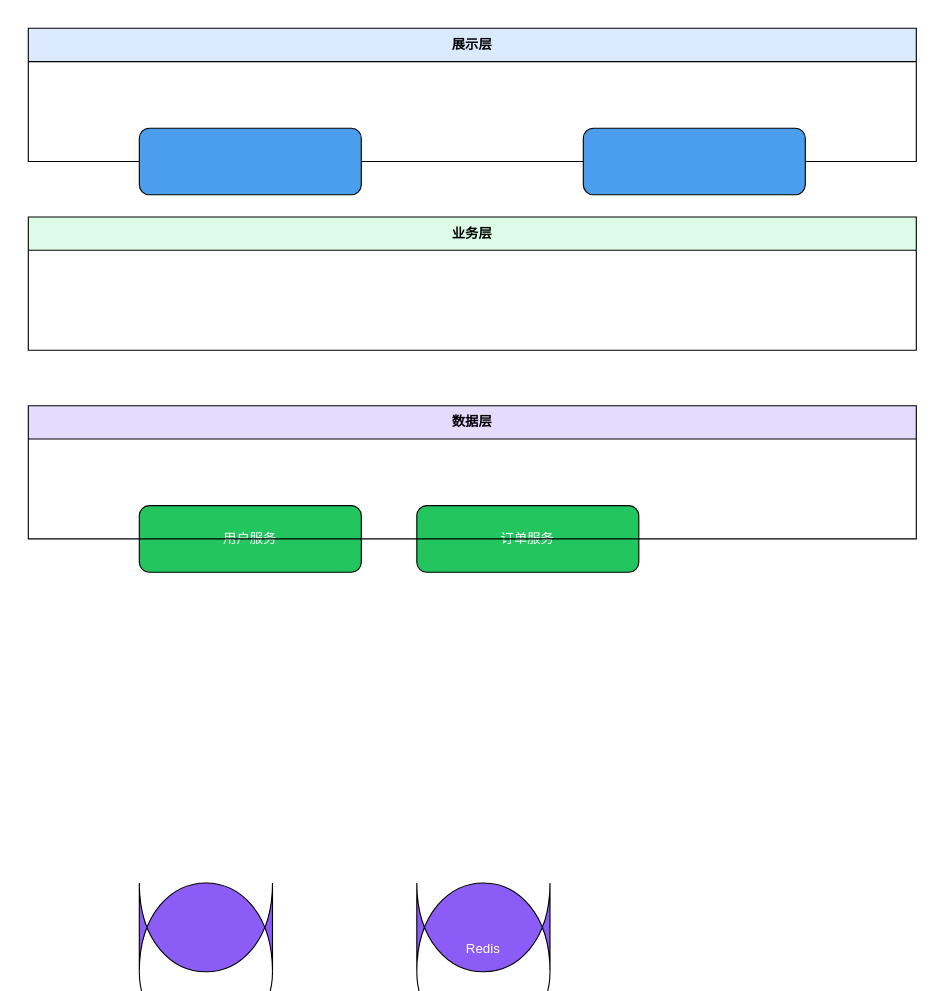
This 936x991 diagram has some shape labels left out. Here are the shapes that lost their labels. From the top down, the centre of each, then its label:
At [249,161]: "React 前端".
At [693,161]: "API 网关".
At [205,927]: "PostgreSQL".
